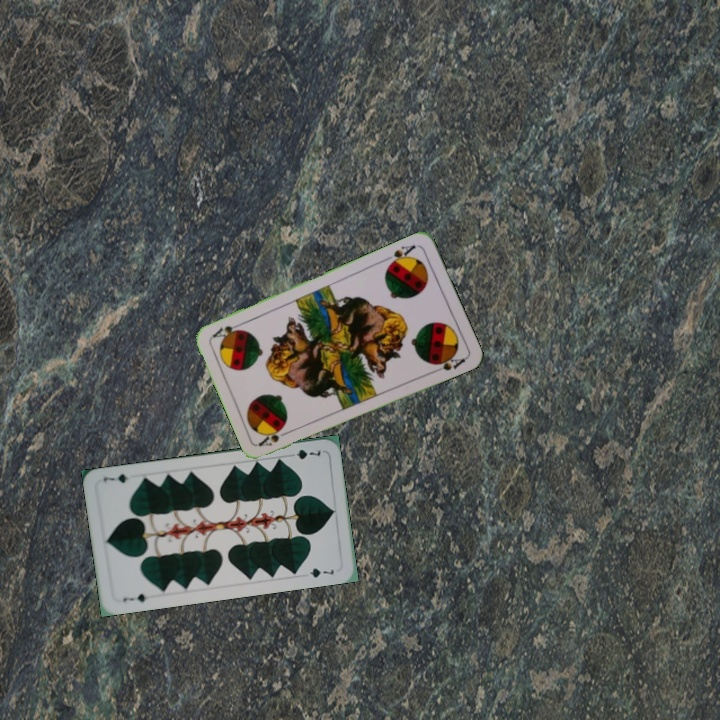G7: (284, 445, 323, 462), (119, 589, 149, 605)
SA: (381, 240, 418, 269), (255, 426, 294, 449)
